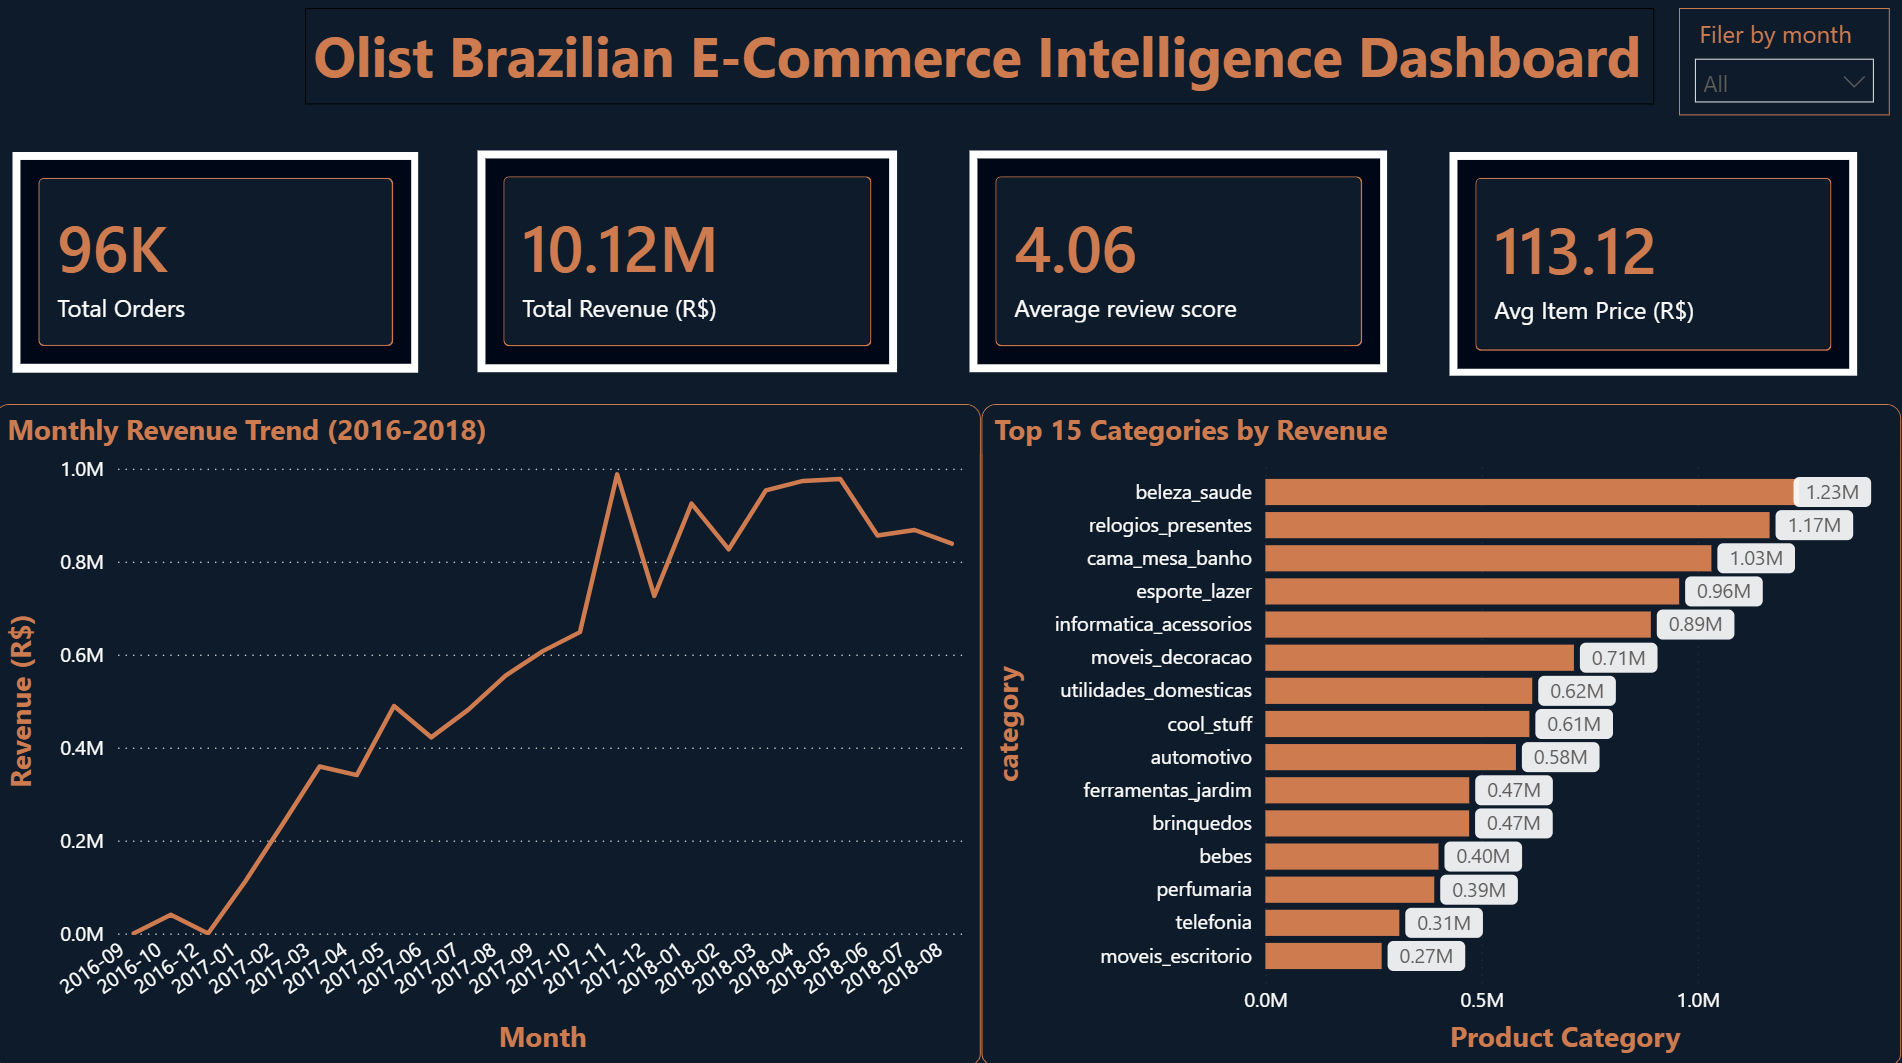

This screenshot's page, from the dashboard's own definition file:
{"tool":"powerbi","page":{"name":"Executive Summary","canvas":[1280,720],"ordinal":0},"visuals":[{"type":"cardVisual","fields":{"Data":["Sum(01_monthly_revenue.total_orders)"]},"box":[13.3,106.7,272.2,147.8],"z":0},{"type":"lineChart","title":"Monthly Revenue Trend (2016-2018)","fields":{"Y":["Sum(01_monthly_revenue.gross_revenue)"],"Category":["01_monthly_revenue.month.Variation.Date Hierarchy.Month"]},"box":[1.1,275.4,661.3,445],"z":0},{"type":"barChart","title":"Top 15 Categories by Revenue","fields":{"Category":["02_top_categories.category"],"Y":["Sum(02_top_categories.total_revenue)"]},"box":[662.4,275.4,616.9,445],"z":1000},{"type":"textbox","box":[209.4,10.2,904.8,64.9],"z":2000},{"type":"cardVisual","fields":{"Data":["Avg(02_top_categories.avg_review_score)"]},"box":[654.4,105.6,280,148.9],"z":2000},{"type":"cardVisual","fields":{"Data":["Sum(02_top_categories.total_revenue)"]},"box":[324.4,105.6,281.1,148.9],"z":3000},{"type":"cardVisual","fields":{"Data":["Avg(01_monthly_revenue.avg_item_price)"]},"box":[976.7,106.7,273.3,150],"z":3001},{"type":"slicer","fields":{"Values":["01_monthly_revenue.month"]},"box":[1130,10,141.1,72.2],"z":3002}]}

Visuals, with their boxes in screenshot pixels (x1, y1, x2, y2), scaled from the page's 1280x720 canvas onto the 1902x1063 screenshot:
cardVisual - Sum(01_monthly_revenue.total_orders): left=20, top=158, right=424, bottom=376
"Monthly Revenue Trend (2016-2018)" lineChart: left=2, top=407, right=984, bottom=1062
"Top 15 Categories by Revenue" barChart: left=984, top=407, right=1901, bottom=1062
textbox: left=311, top=15, right=1656, bottom=111
cardVisual - Avg(02_top_categories.avg_review_score): left=972, top=156, right=1388, bottom=376
cardVisual - Sum(02_top_categories.total_revenue): left=482, top=156, right=900, bottom=376
cardVisual - Avg(01_monthly_revenue.avg_item_price): left=1451, top=158, right=1857, bottom=379
slicer - 01_monthly_revenue.month: left=1679, top=15, right=1889, bottom=121
